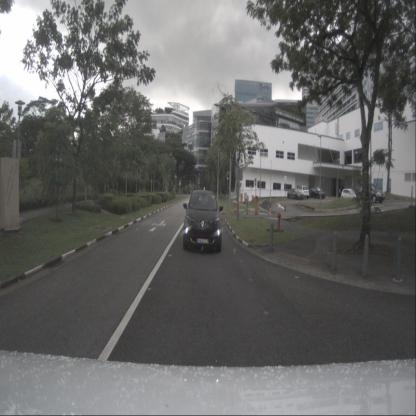vehicle-car: (183, 190, 222, 252), (359, 183, 385, 203), (341, 188, 358, 202), (309, 186, 326, 199), (295, 186, 310, 200), (288, 188, 304, 200)
